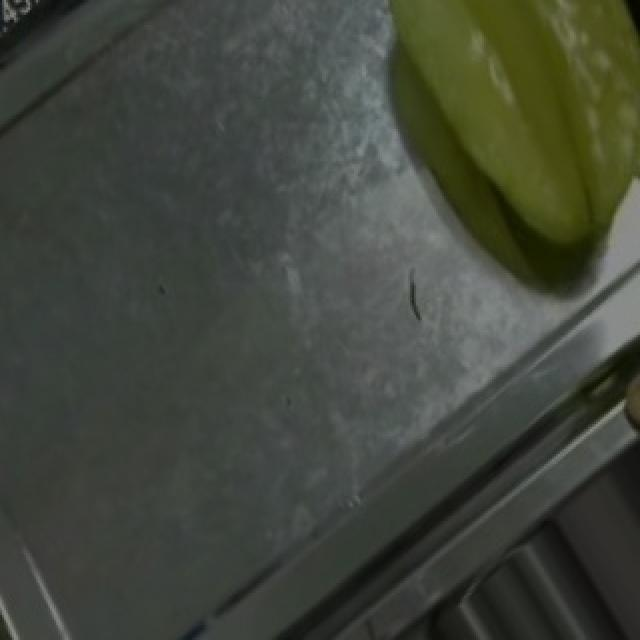fruit: (344, 0, 640, 313)
